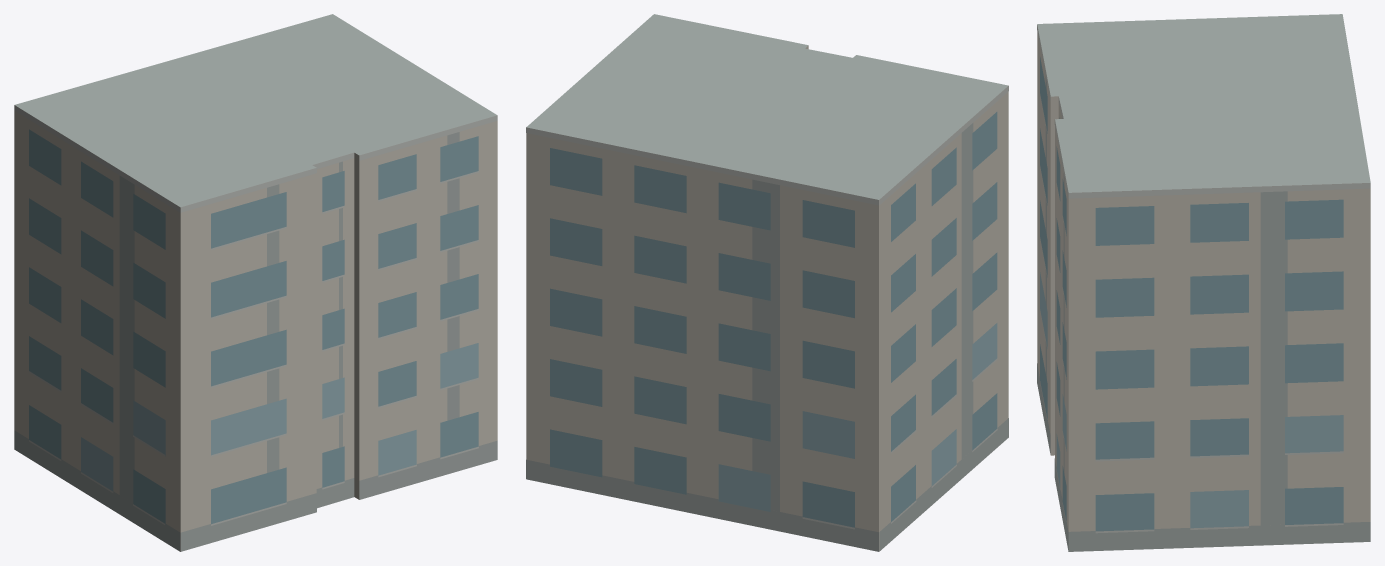
Rendered from survey-upis-32708658.glb.
3 renders of one model, left to right at view 1: azimuth 30°, elevation 25°; view 2: azimuth 150°, elevation 25°; view 3: azimuth 270°, elevation 25°, orthographic. The views are drawn at different scales.
Visible parts, largest first — view 1: survey-upis-32708658.tmp; view 2: survey-upis-32708658.tmp; view 3: survey-upis-32708658.tmp.
Boxes of the visible parts, x1,y1,x2,y2 form: survey-upis-32708658.tmp: (14, 14, 497, 551); survey-upis-32708658.tmp: (526, 14, 1008, 551); survey-upis-32708658.tmp: (1037, 14, 1370, 551).
Bounding box in the file's own units: 16.31 × 15.25 × 12.85.
